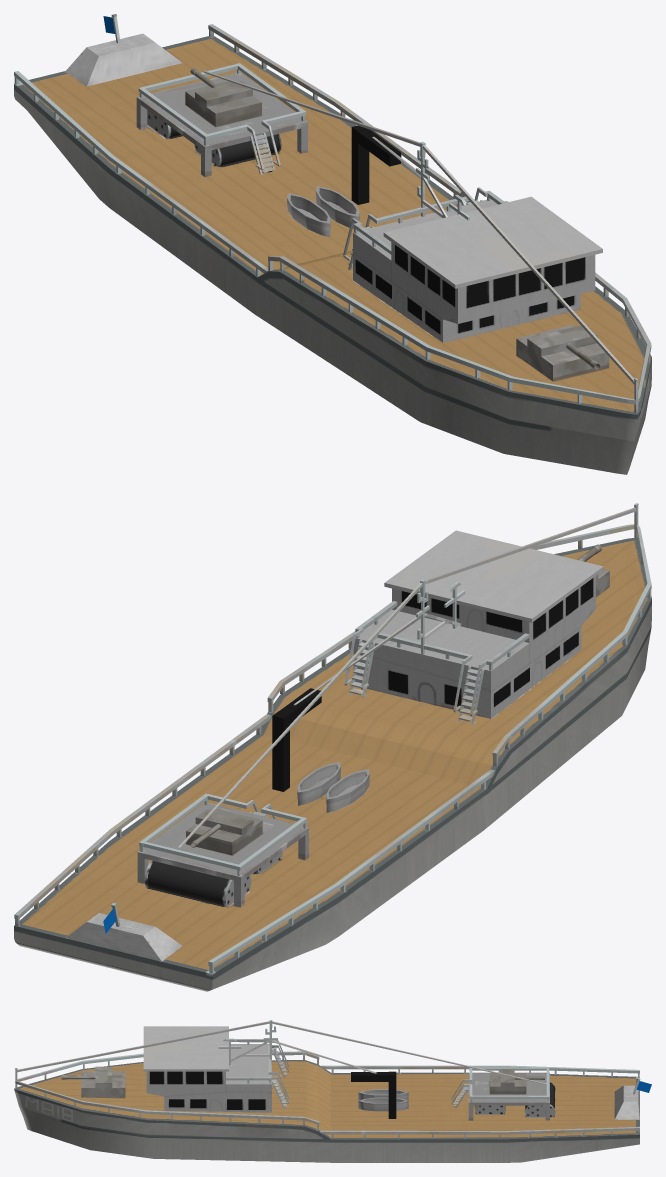
File: Hr.Ms.Dokkum 1.fbx
3 renders of one model, top to bottom at view 1: azimuth 30°, elevation 25°; view 2: azimuth 150°, elevation 25°; view 3: azimuth 270°, elevation 25°, orthographic. The views are drawn at different scales.
Visible parts, largest first — view 1: Model_Hr_Ms_Dokkum1; view 2: Model_Hr_Ms_Dokkum1; view 3: Model_Hr_Ms_Dokkum1.
Boxes of the visible parts, left/top/right/bottom form: Model_Hr_Ms_Dokkum1: left=14, top=14, right=651, bottom=474; Model_Hr_Ms_Dokkum1: left=14, top=503, right=651, bottom=991; Model_Hr_Ms_Dokkum1: left=14, top=1020, right=651, bottom=1162.
Bounding box in the file's own units: 6 × 4.57 × 24.25.
1 material, 1 textured.
